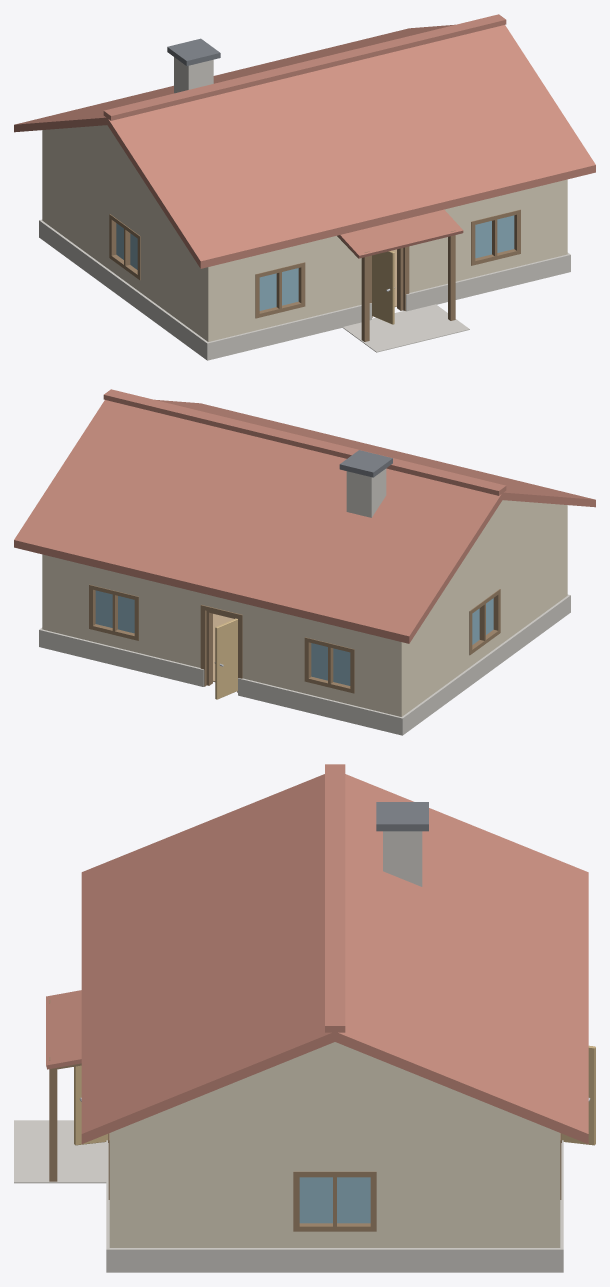
File: 民居A.fbx
The picture shows the model from 3 angles, top to bottom: view 1: azimuth 30°, elevation 25°; view 2: azimuth 150°, elevation 25°; view 3: azimuth 270°, elevation 25°; orthographic projection. The views are drawn at different scales.
Parts seen in each view (by area): view 1: 屋顶_南坡, 外墙_西_2_0, 外墙_西_0_0, 屋顶_脊瓦, 外墙_南_0_0, 外墙_南_2_0, 屋顶_北坡, 外墙_南_6_0, 墙裙_西, 山墙_西, 外墙_南_4_0, 雨棚板 (+17 smaller); view 2: 屋顶_北坡, 外墙_西_0_0, 外墙_西_2_0, 外墙_北_2_0, 外墙_北_4_0, 屋顶_脊瓦, 屋顶_南坡, 外墙_北_0_0, 外墙_北_6_0, 墙裙_西, 山墙_西, 墙裙_北_右 (+15 smaller); view 3: 屋顶_南坡, 屋顶_北坡, 外墙_东_2_0, 外墙_东_0_0, 山墙_东, 墙裙_东, 屋顶_脊瓦, 门口铺装, 外墙_东_1_204, 窗_东_玻璃, 雨棚板, 外墙_北_6_0 (+8 smaller).
Part boxes in pixels (x1=…): 屋顶_南坡: x1=107, y1=25, x2=595, y2=268; 外墙_西_2_0: x1=48, y1=133, x2=111, y2=271; 外墙_西_0_0: x1=138, y1=199, x2=201, y2=336; 屋顶_脊瓦: x1=103, y1=14, x2=506, y2=120; 外墙_南_0_0: x1=202, y1=255, x2=258, y2=341; 外墙_南_2_0: x1=301, y1=236, x2=361, y2=318; 屋顶_北坡: x1=14, y1=24, x2=455, y2=132; 外墙_南_6_0: x1=517, y1=179, x2=567, y2=266; 墙裙_西: x1=39, y1=219, x2=210, y2=360; 山墙_西: x1=45, y1=125, x2=168, y2=220; 外墙_南_4_0: x1=409, y1=202, x2=474, y2=292; 雨棚板: x1=338, y1=209, x2=463, y2=258; 屋顶_北坡: x1=14, y1=400, x2=502, y2=643; 外墙_西_0_0: x1=498, y1=508, x2=561, y2=646; 外墙_西_2_0: x1=408, y1=574, x2=471, y2=711; 外墙_北_2_0: x1=239, y1=602, x2=308, y2=693; 外墙_北_4_0: x1=135, y1=577, x2=204, y2=667; 屋顶_脊瓦: x1=103, y1=389, x2=506, y2=495; 屋顶_南坡: x1=154, y1=399, x2=595, y2=507; 外墙_北_0_0: x1=351, y1=630, x2=407, y2=716; 外墙_北_6_0: x1=42, y1=554, x2=92, y2=641; 墙裙_西: x1=399, y1=594, x2=570, y2=735; 山墙_西: x1=441, y1=500, x2=564, y2=595; 墙裙_北_右: x1=41, y1=629, x2=204, y2=686; 屋顶_南坡: x1=81, y1=774, x2=334, y2=1143; 屋顶_北坡: x1=335, y1=774, x2=588, y2=1144; 外墙_东_2_0: x1=371, y1=1122, x2=543, y2=1247; 外墙_东_0_0: x1=126, y1=1122, x2=298, y2=1247; 山墙_东: x1=137, y1=1042, x2=533, y2=1122; 墙裙_东: x1=106, y1=1247, x2=563, y2=1272; 屋顶_脊瓦: x1=325, y1=764, x2=345, y2=1032; 门口铺装: x1=14, y1=1120, x2=106, y2=1183; 外墙_东_1_204: x1=298, y1=1122, x2=371, y2=1171; 窗_东_玻璃: x1=299, y1=1177, x2=370, y2=1223; 雨棚板: x1=46, y1=990, x2=81, y2=1069; 外墙_北_6_0: x1=543, y1=1126, x2=560, y2=1247.
Size of the model in its own units: 1205 by 605 by 1132.
